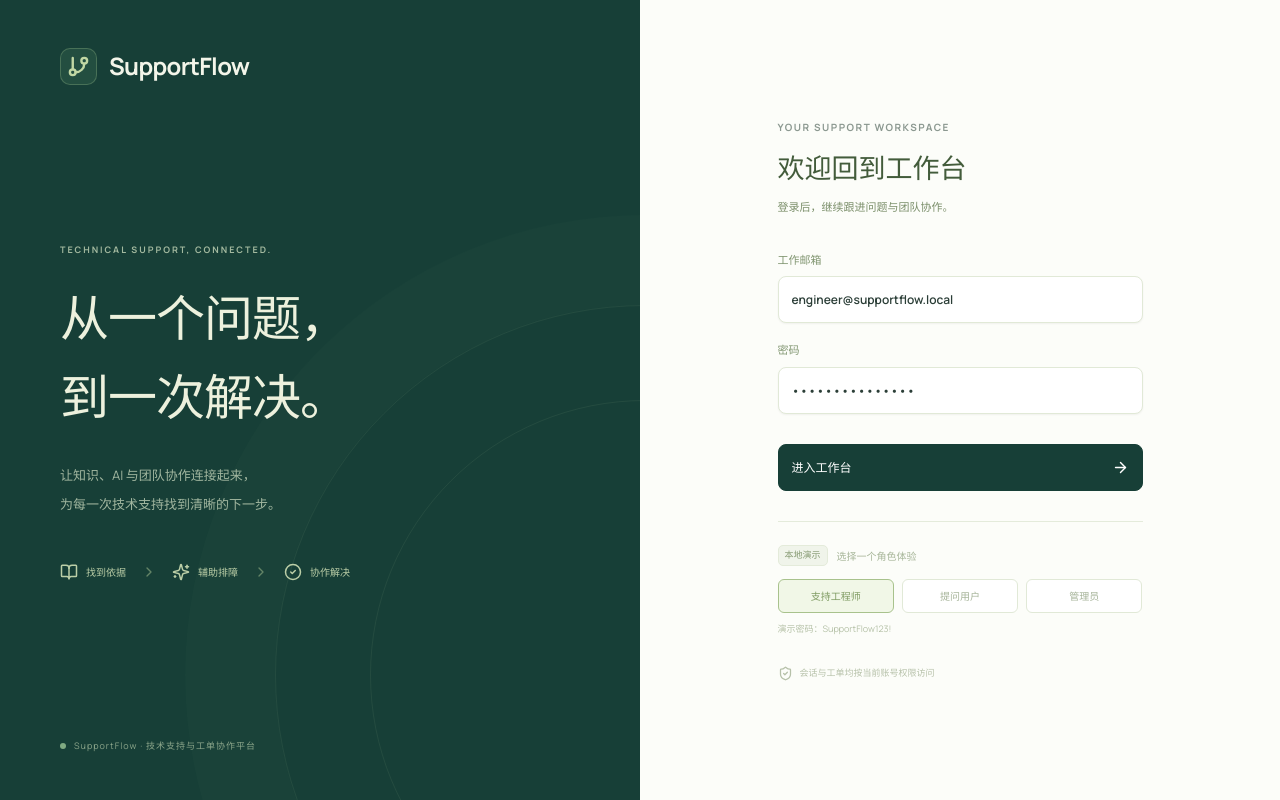
Scenario: SupportFlow main workflows › preserves a partial visible reply with an incomplete label after a stream failure
This screenshot has width=1280, height=800.
Click the button "进入工作台" at (822, 468), box [778,444,1142,491]
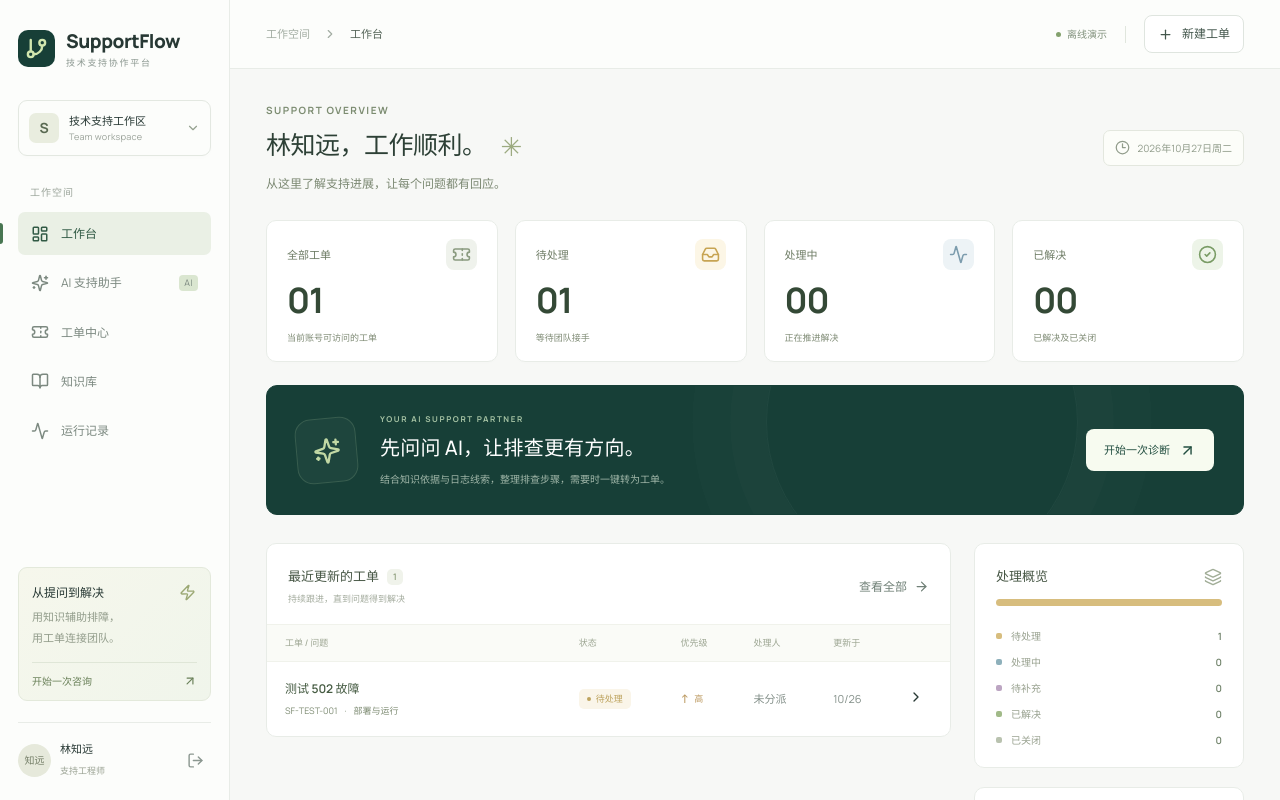
Expected: the heading "林知远，工作顺利。 ✳" is shown, [266,125,522,168]
Click the button "AI 支持助手 AI" at (114, 283), box [18,261,211,305]
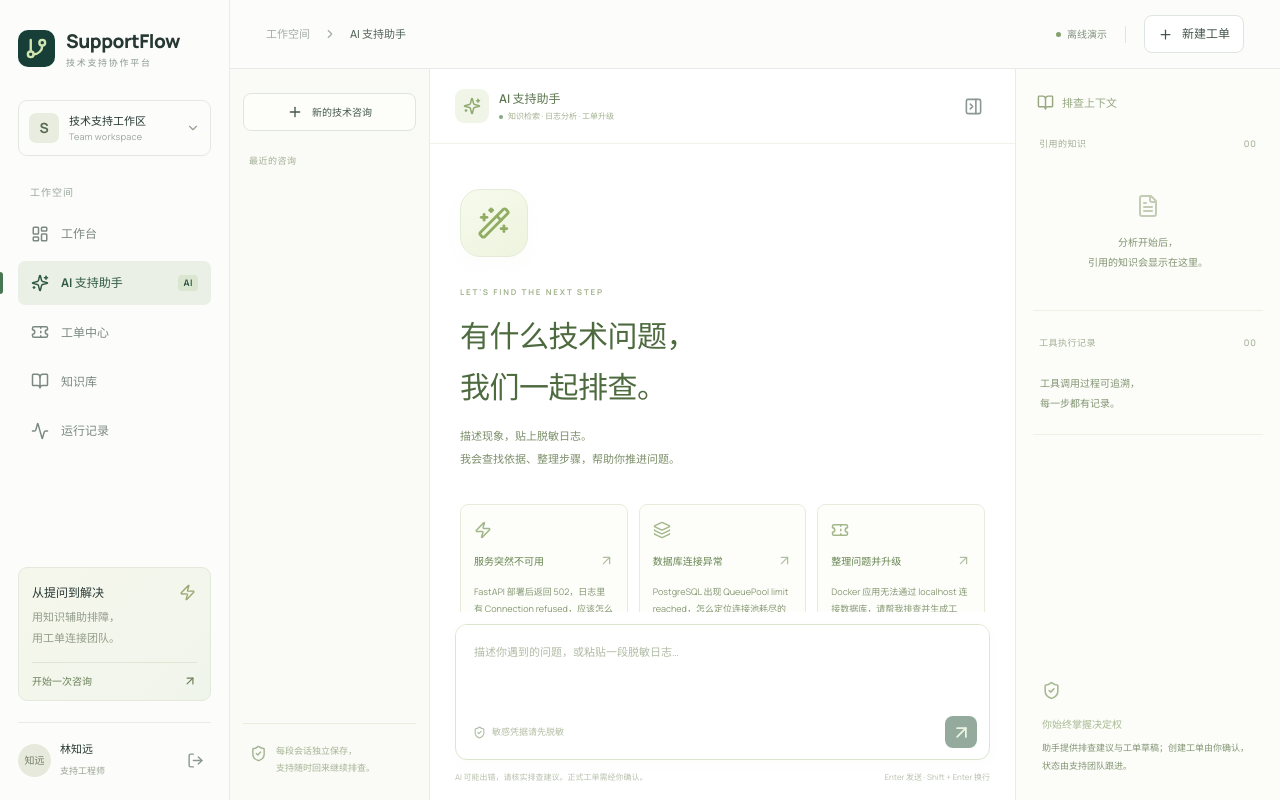
Type "检查服务状态" into the text box named "描述技术问题" at (722, 667), box [456,625,989,710]
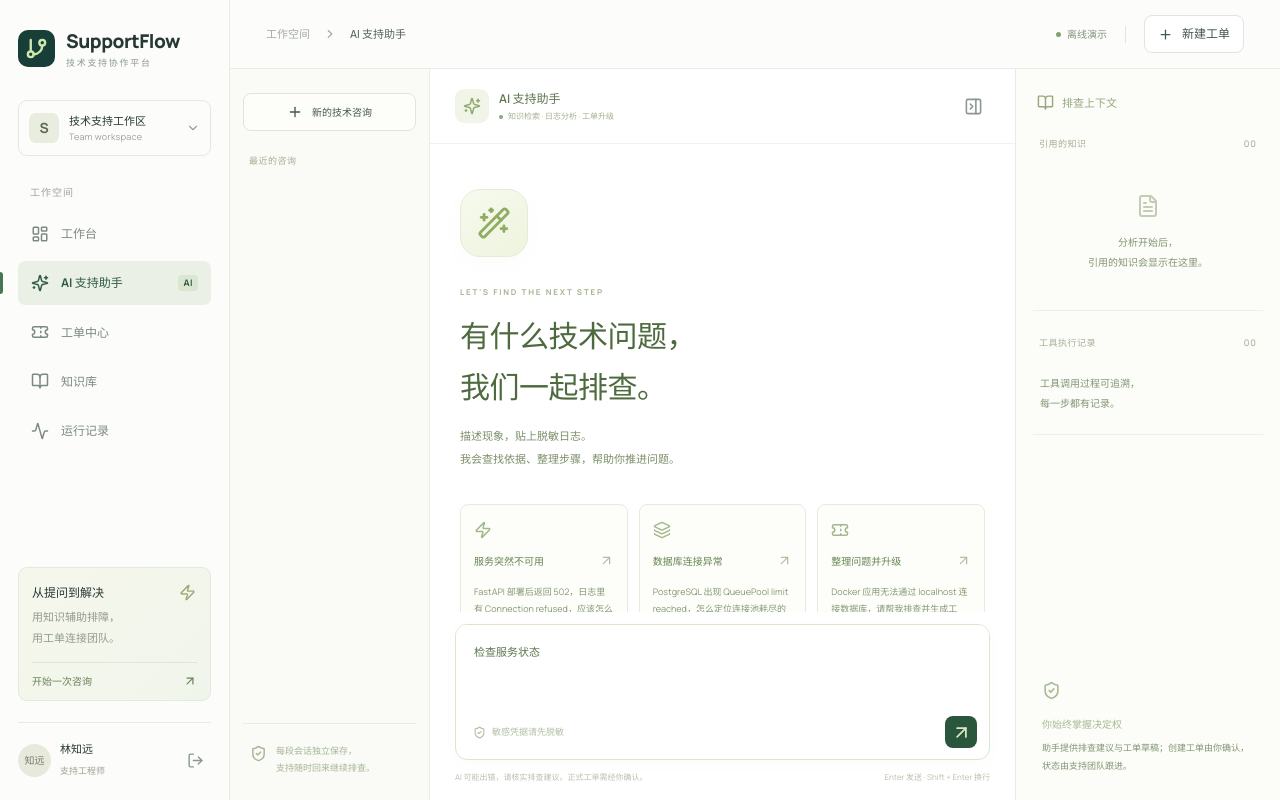
Click the button named "发送问题" at (961, 732), box [945,716,977,748]
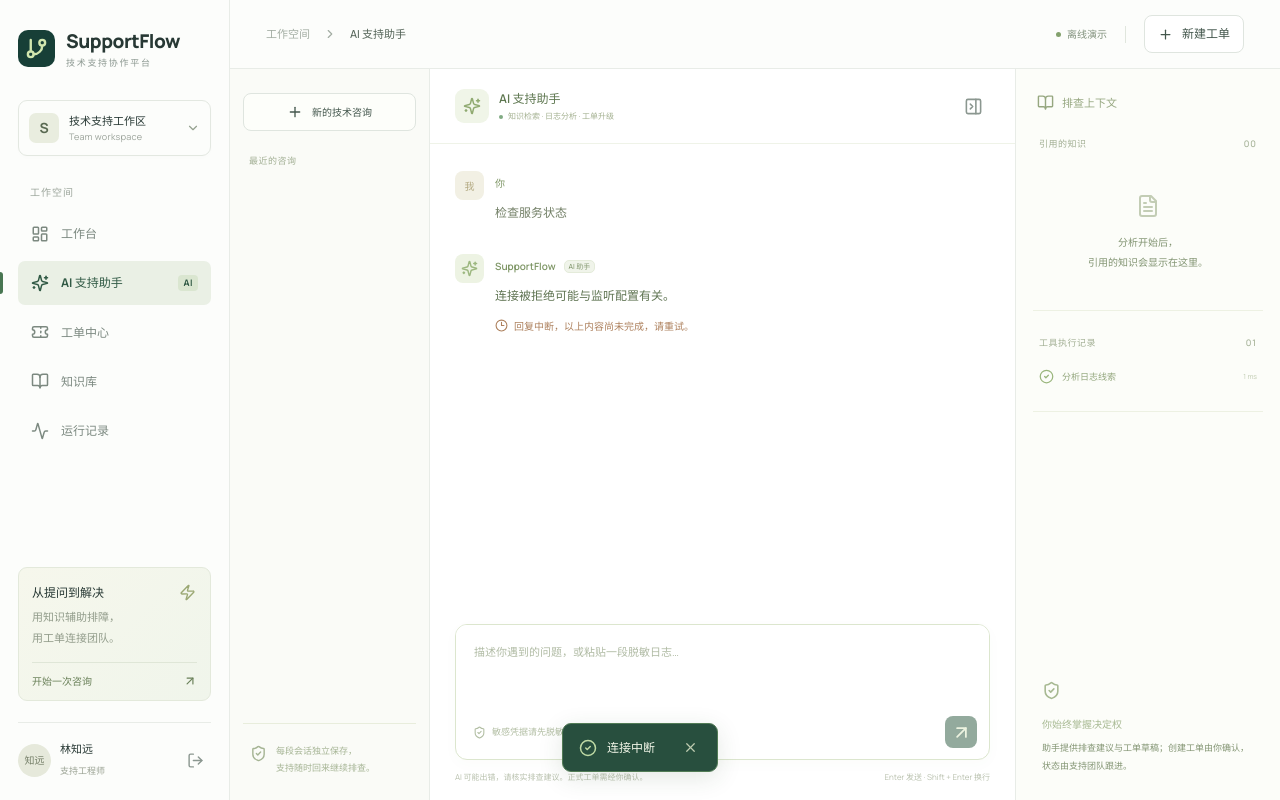
Expected: the text "回复中断，以上内容尚未完成，请重试。" is shown, [495,319,694,333]
Expected: the text "连接被拒绝可能与监听配置有关。" is shown, [495,287,675,304]
Expected: the text "分析日志线索" is shown, [1062,370,1116,383]
